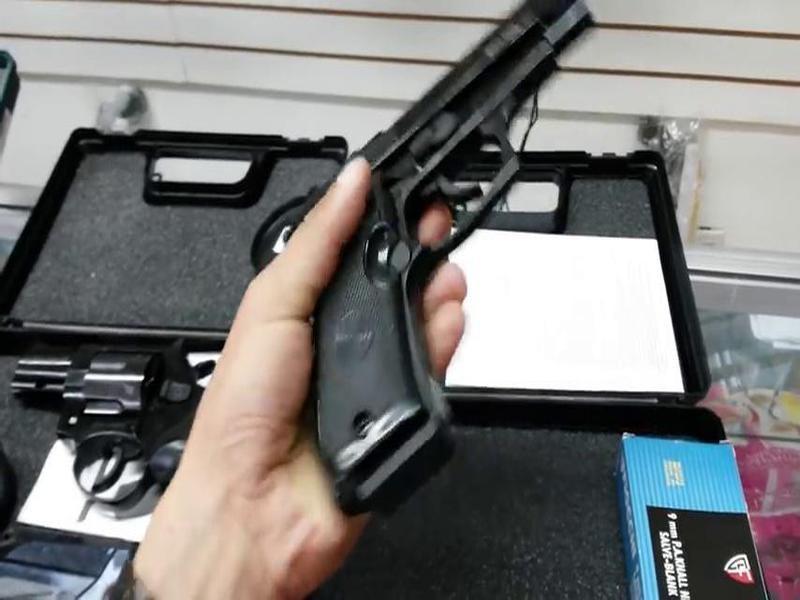Pistola: (237, 16, 591, 514)
